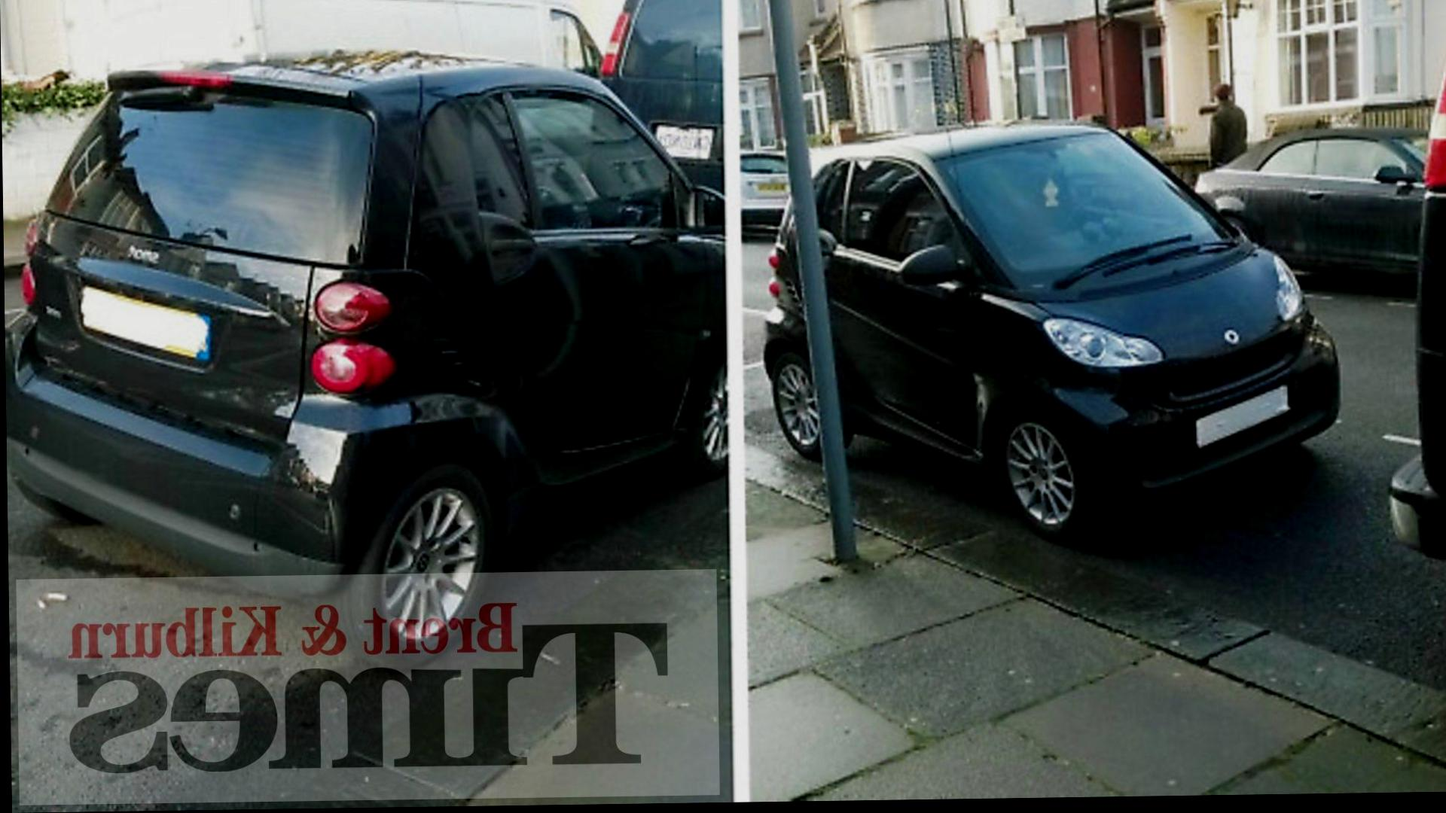License_Plate: (53, 273, 234, 388), (1184, 367, 1307, 459)
